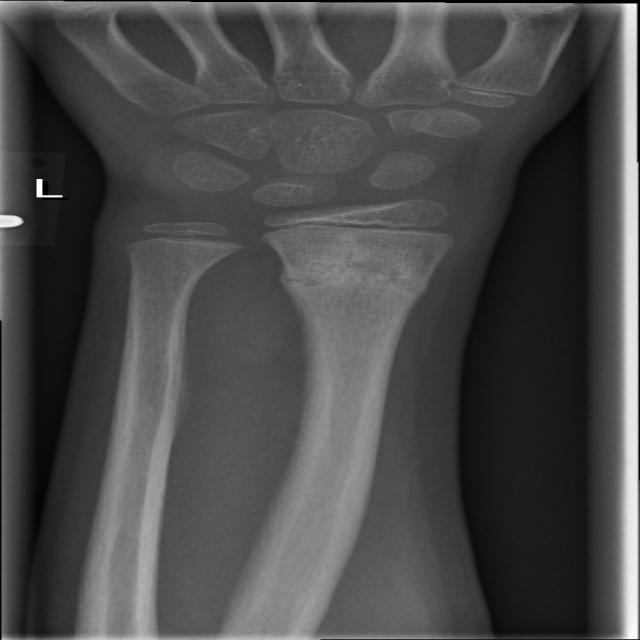radius fracture: (265, 236, 451, 356)
